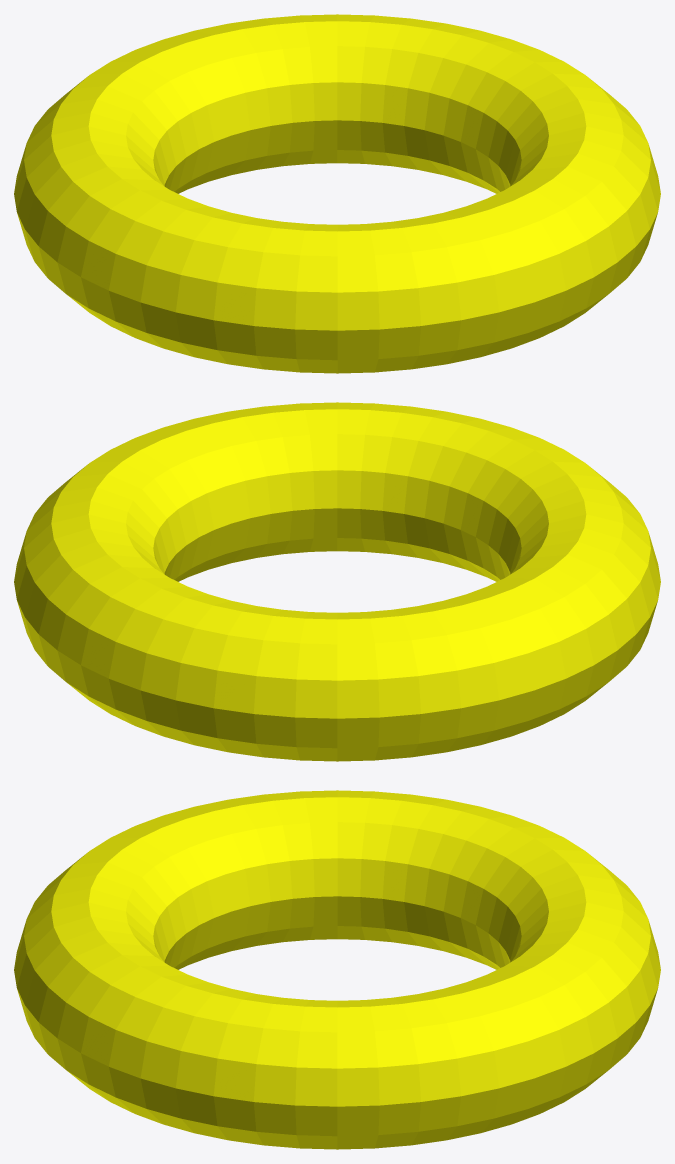
3 renders of one model, top to bottom at view 1: azimuth 30°, elevation 25°; view 2: azimuth 150°, elevation 25°; view 3: azimuth 270°, elevation 25°, orthographic.
Parts seen in each view (by area): view 1: torus; view 2: torus; view 3: torus.
Boxes of the visible parts, bbox=[...] form: torus: bbox=[14, 14, 660, 373]; torus: bbox=[14, 402, 660, 761]; torus: bbox=[14, 790, 660, 1149].
Size of the model in its own units: 2.6 by 0.6 by 2.6.
